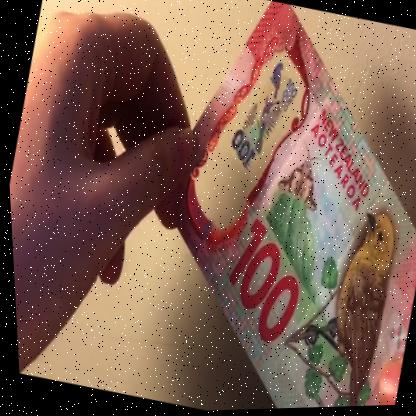100B: (217, 46, 311, 186)
